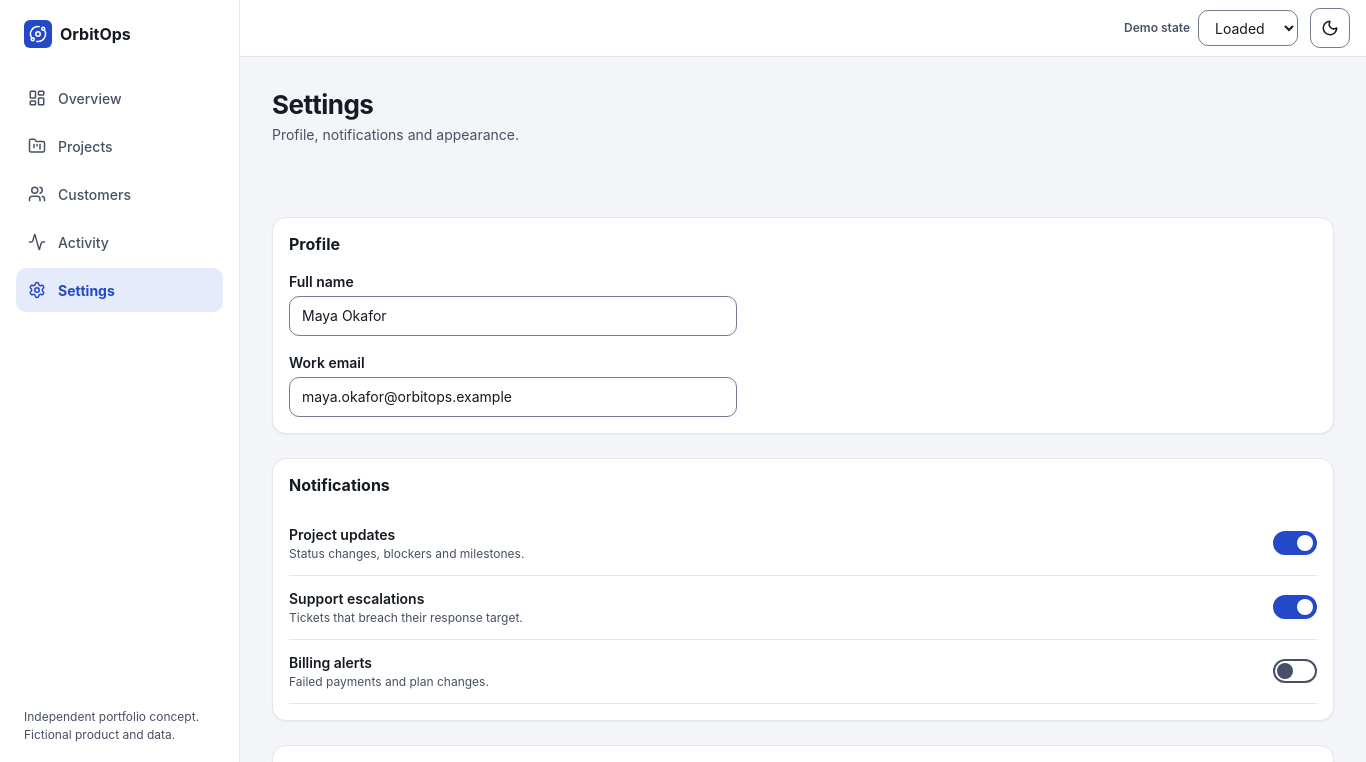
Scenario: settings › disables Save until changed, validates email, then confirms
The width and height of the screenshot is (1366, 762).
Replace the text in the field labelled "Work email" with "not-an-email" at (513, 397), box left=289, top=377, right=737, bottom=417
(page scrolled)
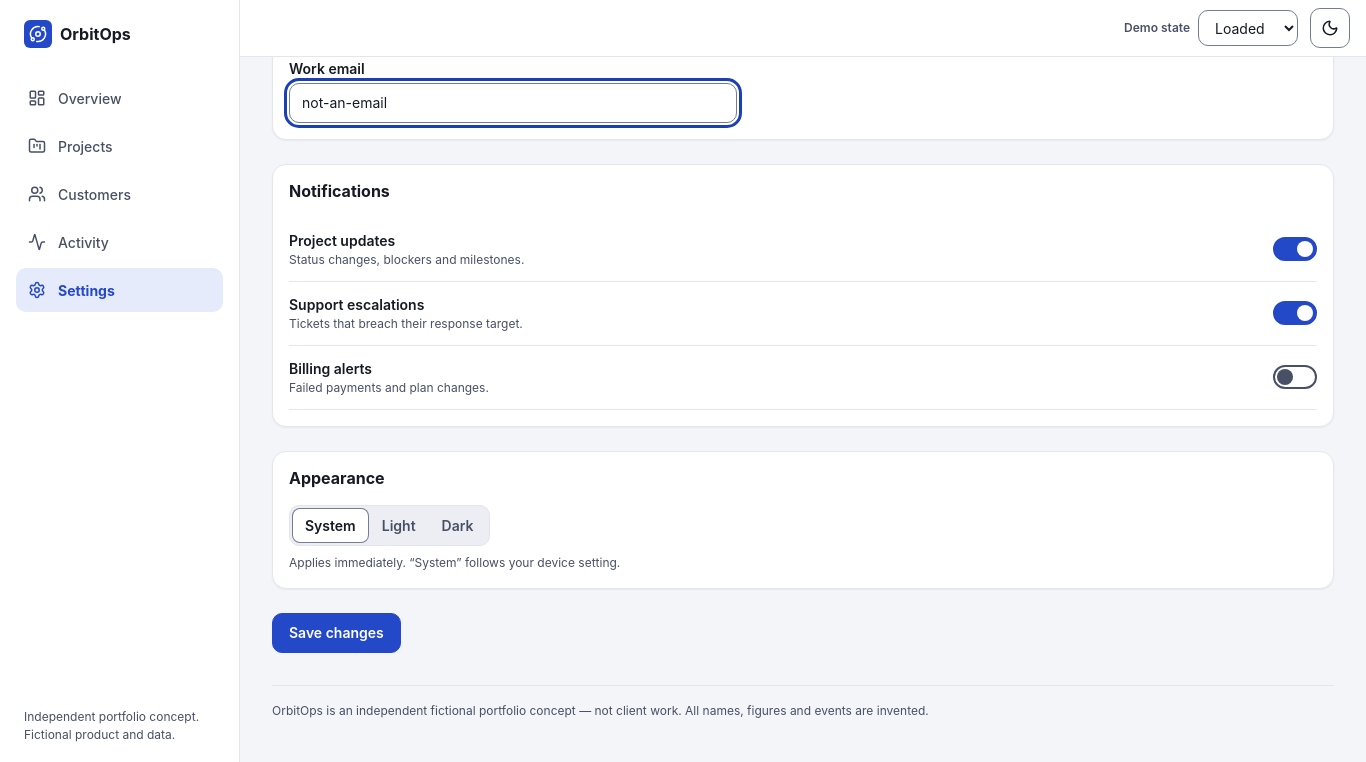
Click the button "Save changes" at (336, 633), box left=272, top=613, right=401, bottom=653
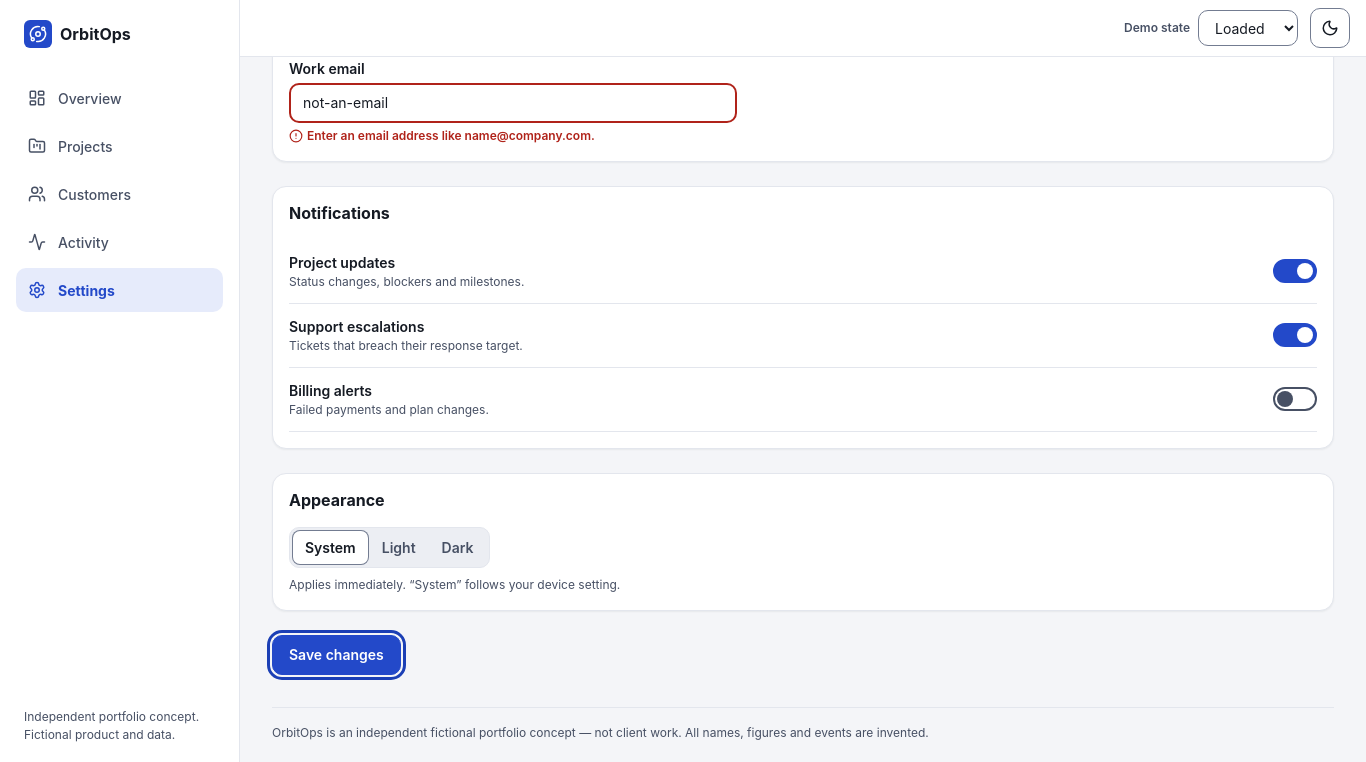
Result: the text "Enter an email address like name@company.com." is shown at left=289, top=128, right=595, bottom=143
Replace the text in the field labelled "Work email" with "maya@orbitops.example" at (513, 103), box left=289, top=83, right=737, bottom=123
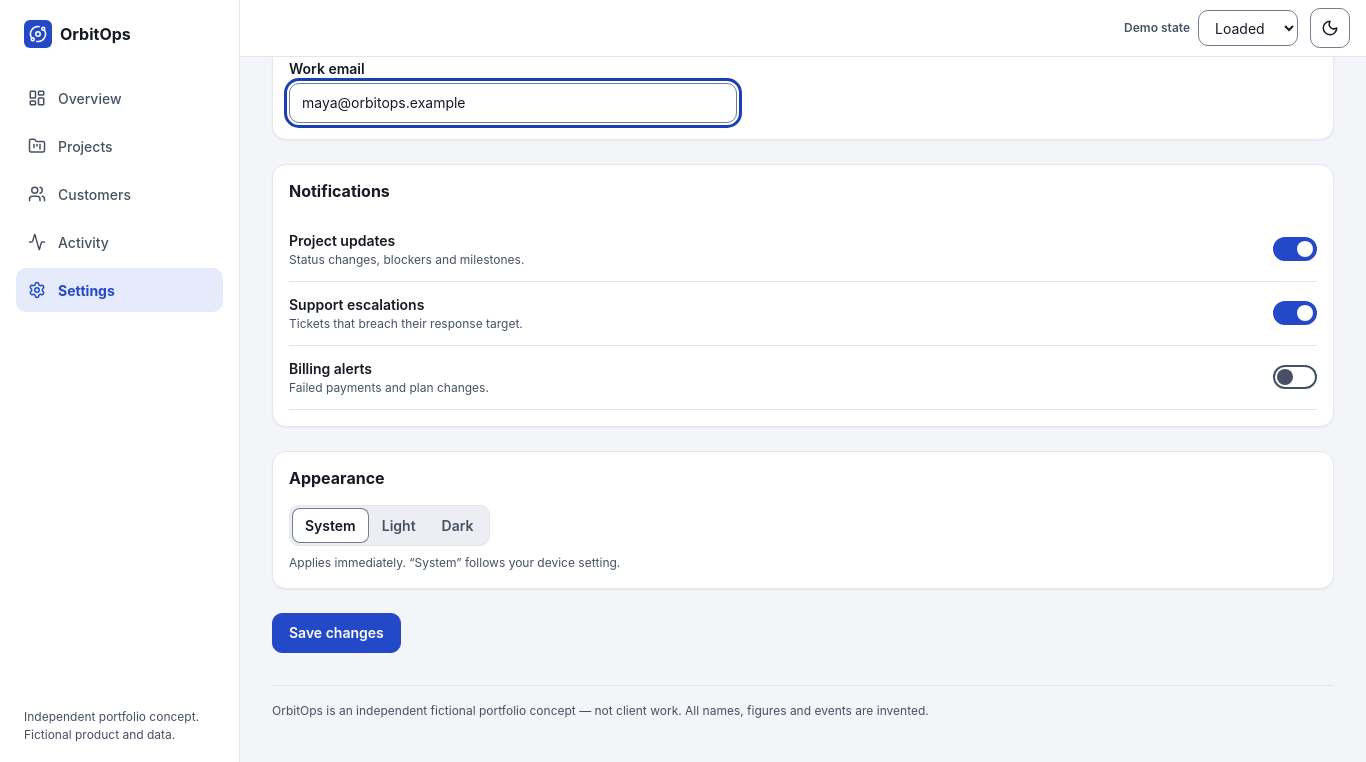
Click the button "Save changes" at (336, 633), box left=272, top=613, right=401, bottom=653
(page scrolled)
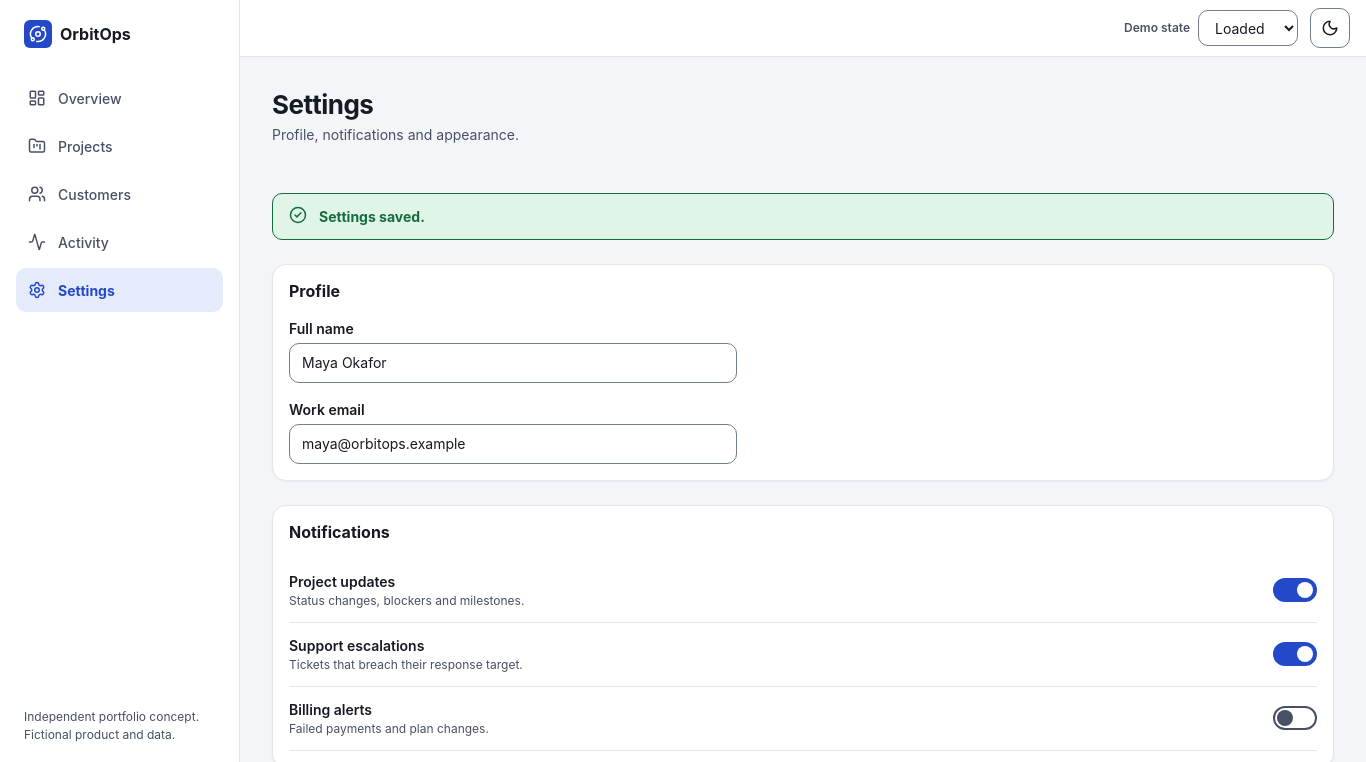
Result: the text "Settings saved." is shown at left=319, top=206, right=425, bottom=227
